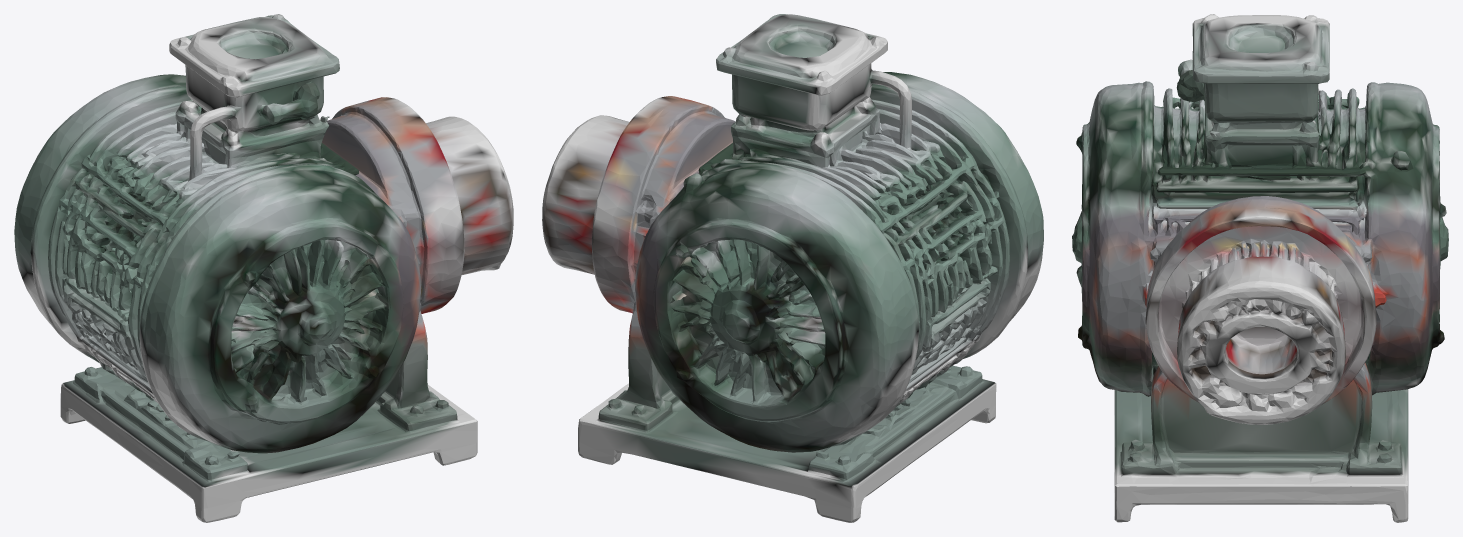
File: machine.glb
3 renders of one model, left to right at view 1: azimuth 30°, elevation 25°; view 2: azimuth 150°, elevation 25°; view 3: azimuth 270°, elevation 25°, orthographic. The views are drawn at different scales.
Parts seen in each view (by area): view 1: tmp8blhoj44.ply; view 2: tmp8blhoj44.ply; view 3: tmp8blhoj44.ply.
Boxes of the visible parts, x1=… form: tmp8blhoj44.ply: x1=14, y1=14, x2=513, y2=522; tmp8blhoj44.ply: x1=542, y1=14, x2=1043, y2=522; tmp8blhoj44.ply: x1=1072, y1=14, x2=1448, y2=522.
Size of the model in its own units: 1.97 by 1.93 by 1.6.
